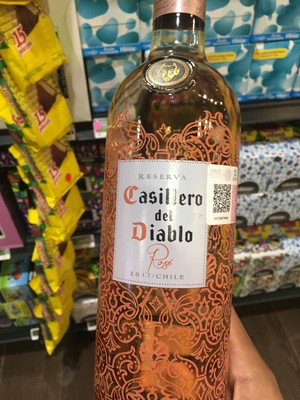casillero del diablo rose: (90, 18, 237, 400)
